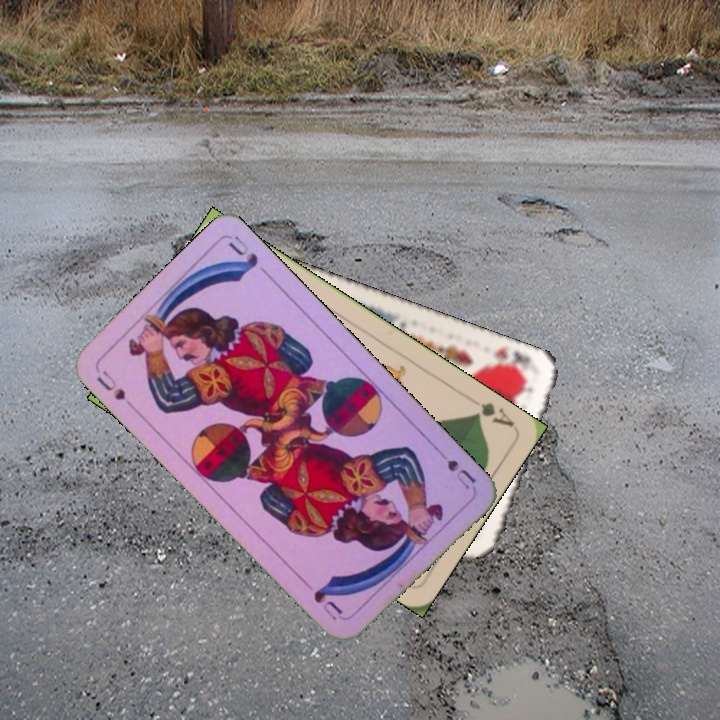GA: (469, 398, 517, 430)
HK: (483, 343, 534, 379)
SU: (430, 443, 479, 492), (92, 366, 139, 413)
